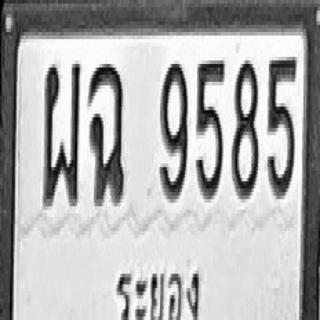A09: (88, 60, 125, 203)
A28: (43, 60, 80, 206)
N05: (196, 57, 225, 199), (267, 55, 296, 197)
N08: (232, 57, 258, 199)
N09: (159, 60, 187, 199)
P53: (113, 260, 205, 320)
